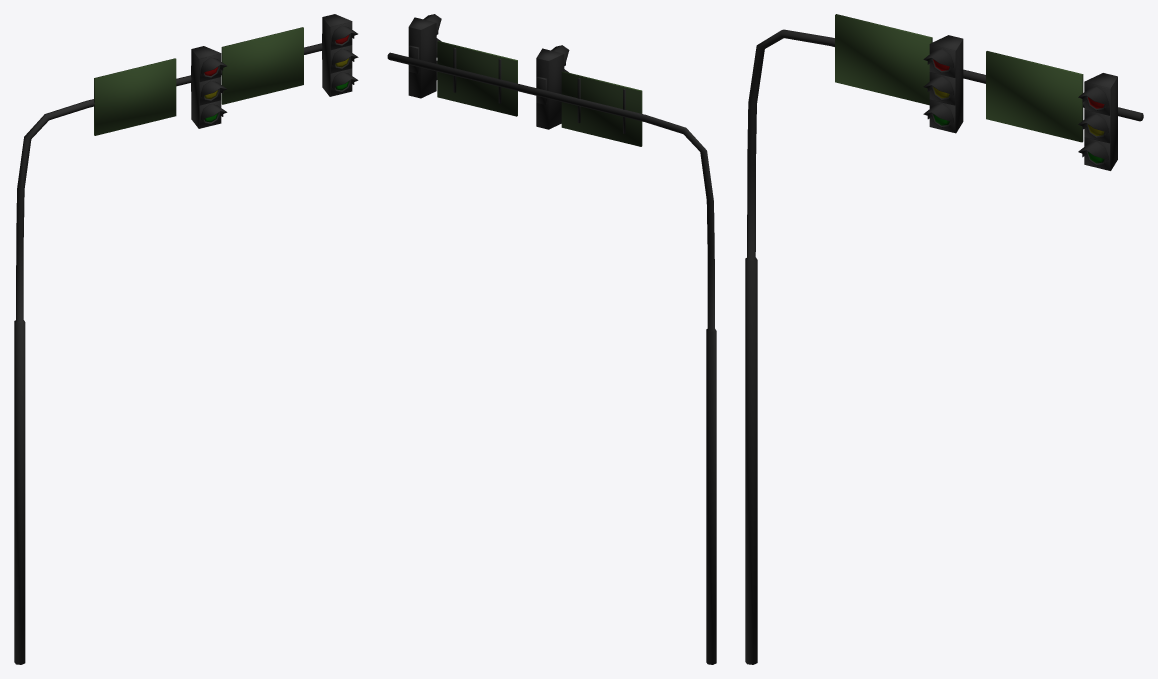
The picture shows the model from 3 angles, left to right: view 1: azimuth 30°, elevation 25°; view 2: azimuth 150°, elevation 25°; view 3: azimuth 330°, elevation 25°; orthographic projection. The views are drawn at different scales.
Visible parts, largest first — view 1: base.033; view 2: base.033; view 3: base.033.
Part boxes in pixels (<box>): base.033: <box>14,14,358,664</box>; base.033: <box>387,14,716,664</box>; base.033: <box>745,14,1143,664</box>.
Size of the model in its own units: 0.3056 by 0.5 by 0.0421.
